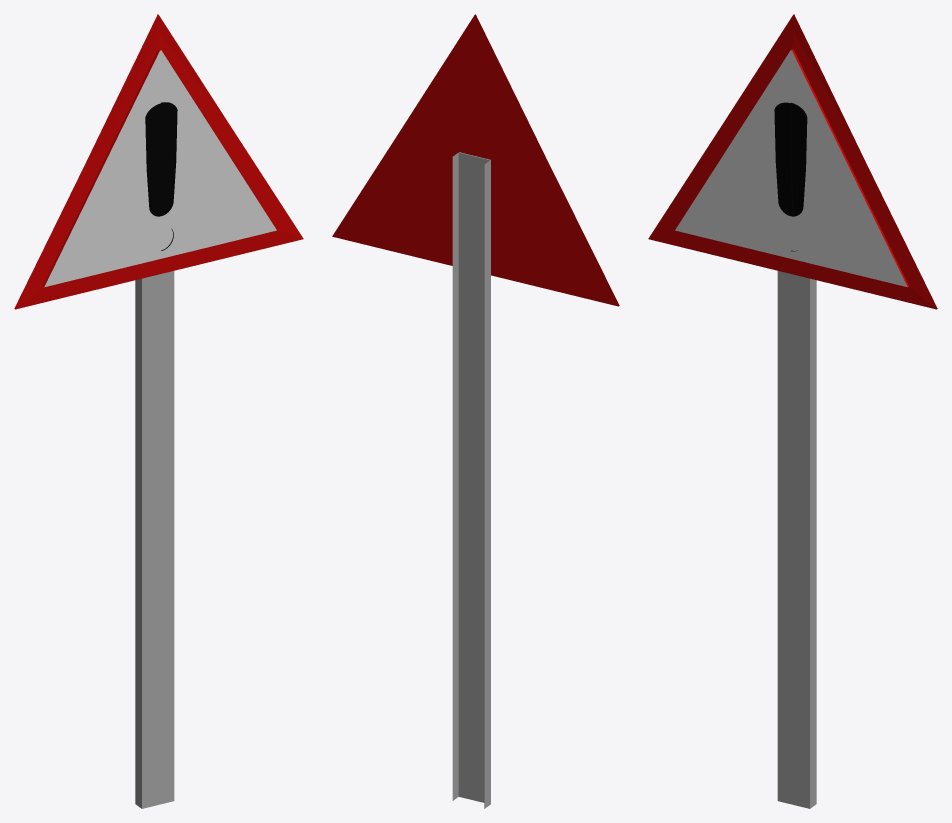
File: caution-sign.fbx
The picture shows the model from 3 angles, left to right: view 1: azimuth 30°, elevation 25°; view 2: azimuth 150°, elevation 25°; view 3: azimuth 330°, elevation 25°; orthographic projection.
Visible parts, largest first — view 1: Plane, Plane_001, Circle; view 2: Plane, Plane_001; view 3: Plane, Plane_001, Circle.
Part boxes in pixels (x1=…): Plane: x1=14, y1=14, x2=303, y2=309; Plane_001: x1=135, y1=271, x2=174, y2=808; Circle: x1=145, y1=102, x2=177, y2=250; Plane: x1=332, y1=14, x2=619, y2=306; Plane_001: x1=452, y1=152, x2=490, y2=808; Plane: x1=648, y1=14, x2=937, y2=309; Plane_001: x1=777, y1=271, x2=816, y2=808; Circle: x1=774, y1=102, x2=807, y2=251.
Bounding box in the file's own units: 2.33 × 6.1 × 0.139.
